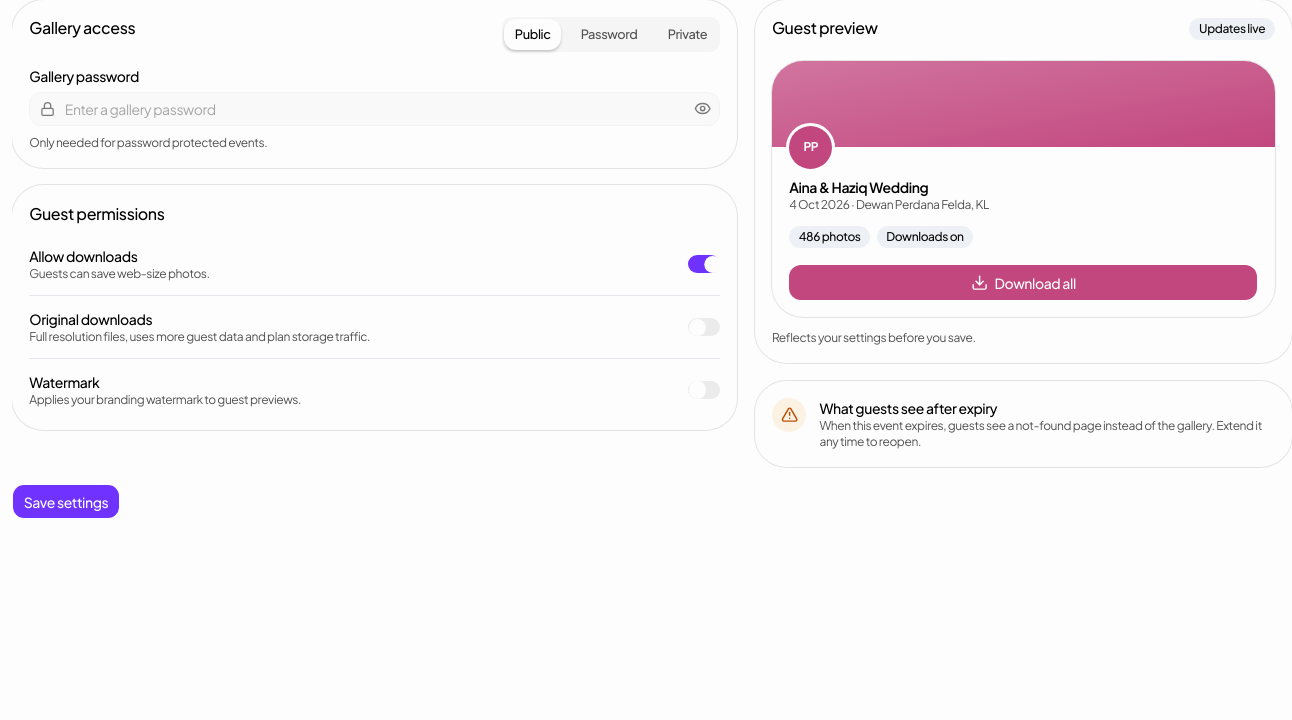
Test: EventSettingsForm › toggles password visibility
Click the button "Password" at (609, 34), box [570,19,648,50]
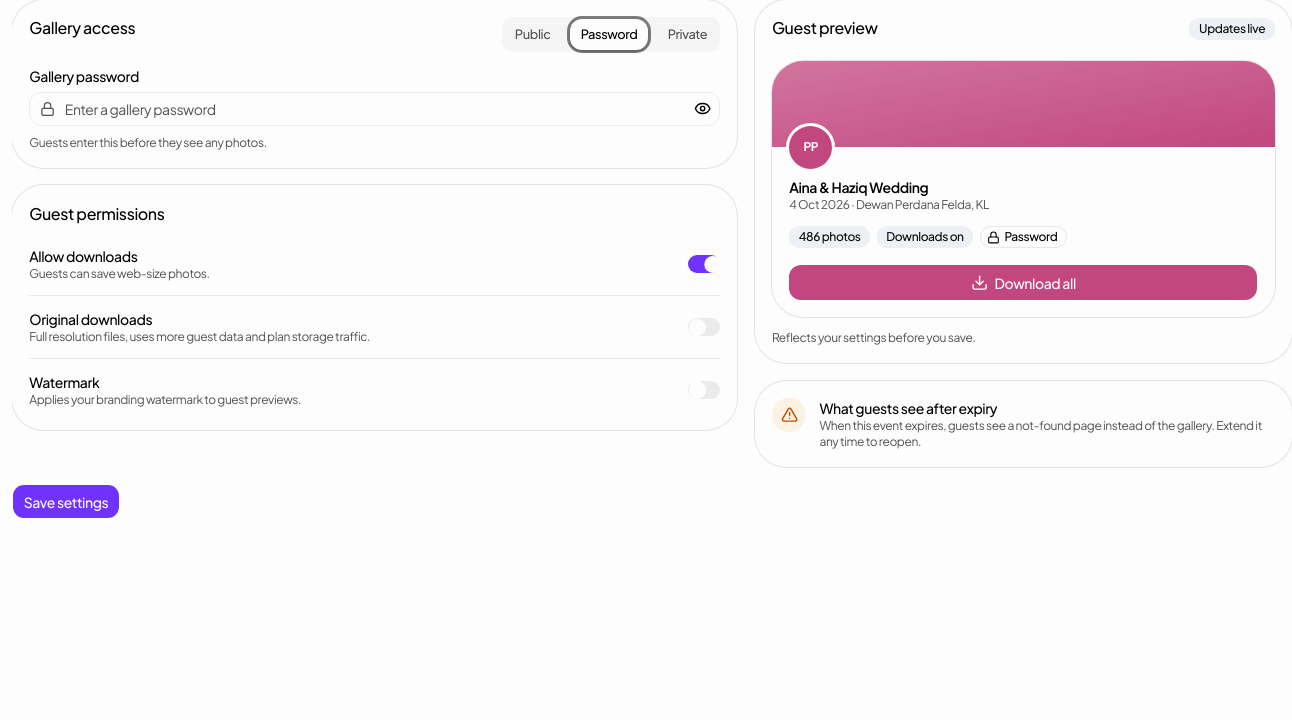
Type "open-sesame" into the password field labelled "Gallery password" at (375, 109), box [29,92,720,126]
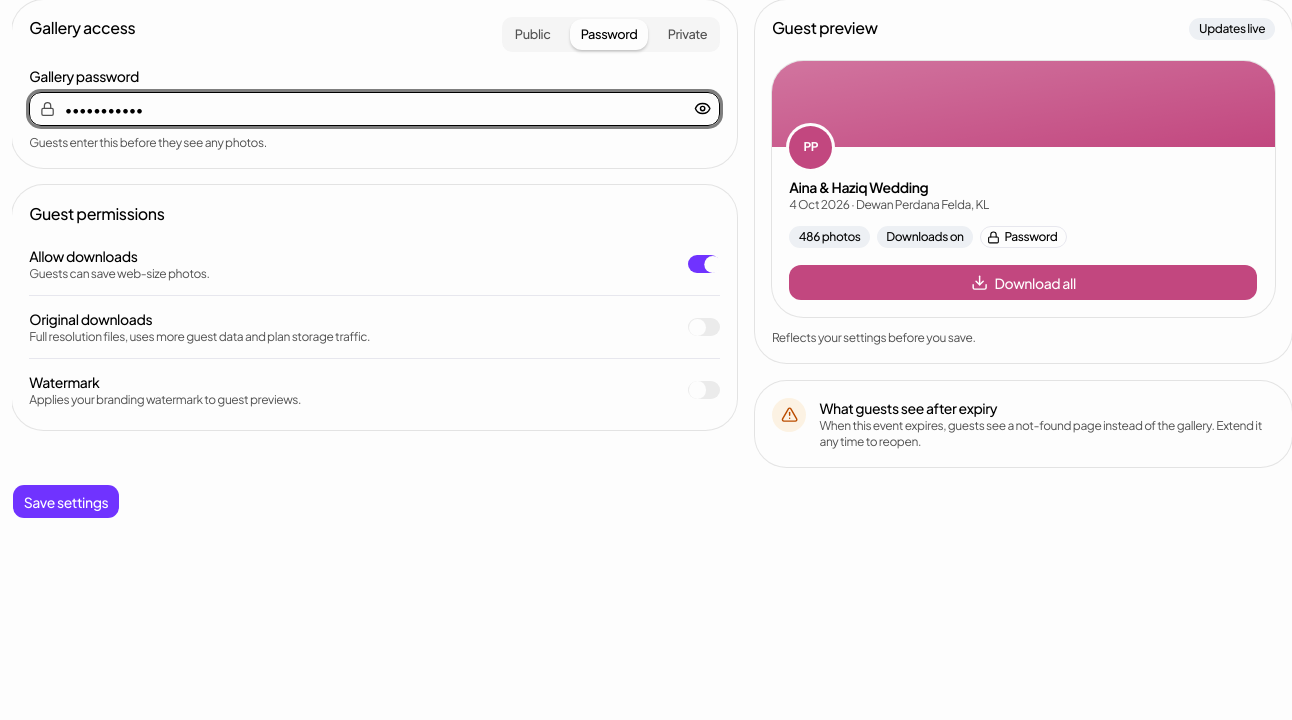
Click the button named "Show password" at (703, 109), box [688,94,718,124]
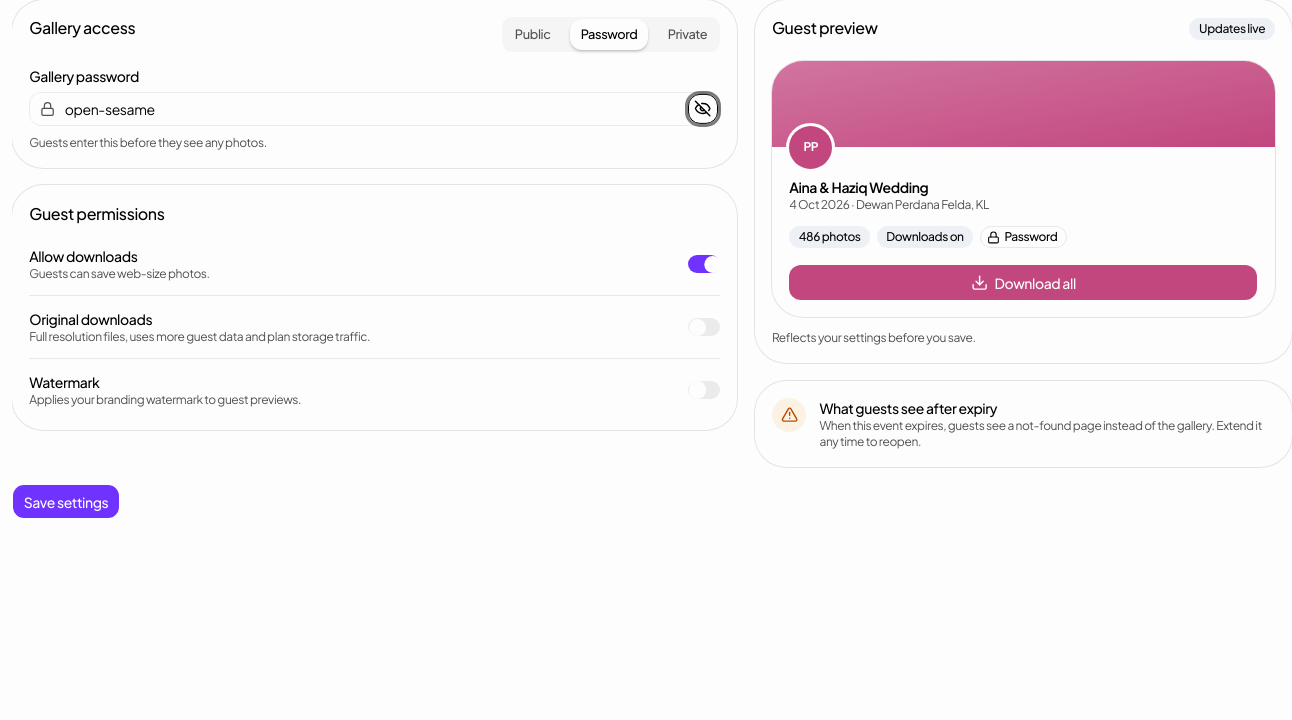
Now the field labelled "Gallery password" shows its text, box [29,92,720,126]
Click the button named "Hide password" at (703, 109), box [688,94,718,124]
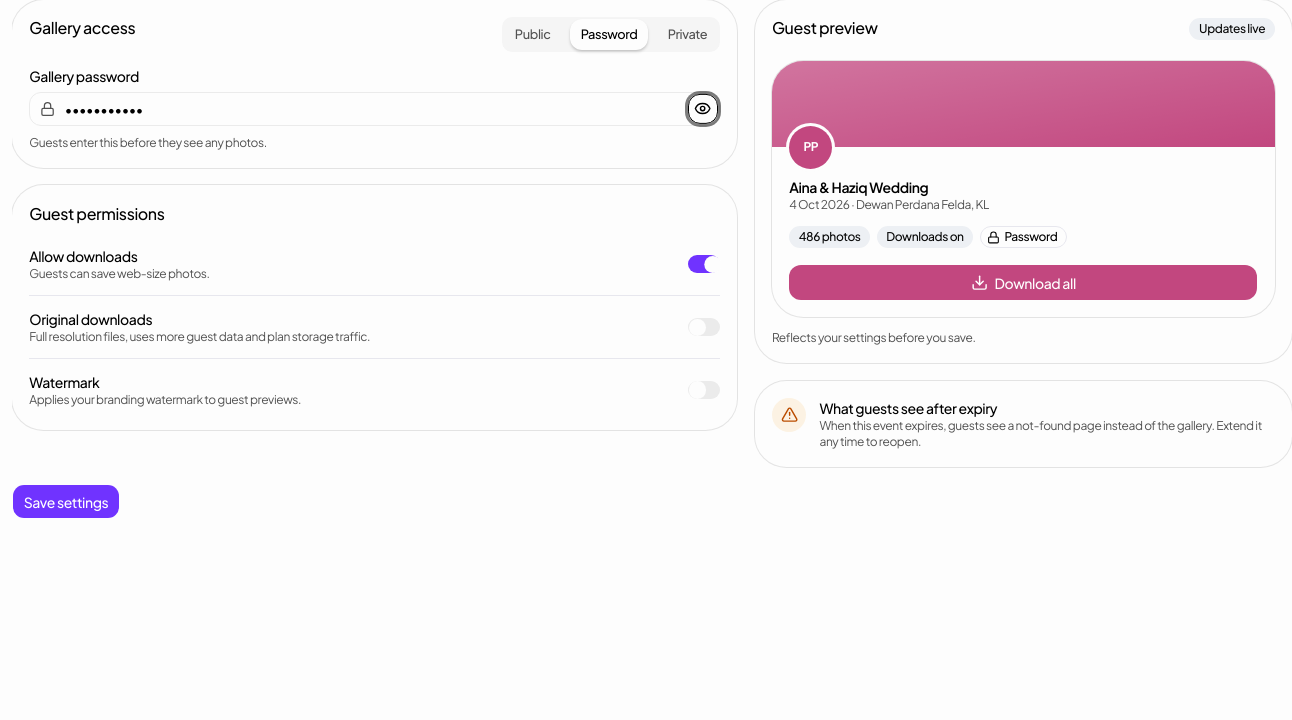
Now the password field labelled "Gallery password" hides its text, box [29,92,720,126]
